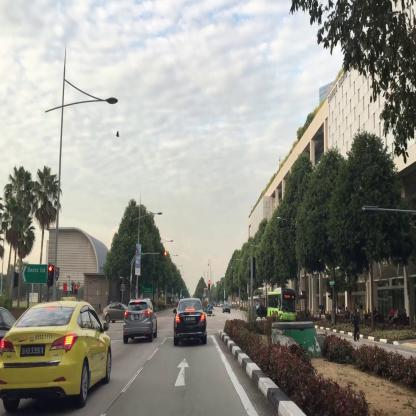red_traffic_light: (48, 264, 52, 286), (160, 252, 166, 256), (208, 280, 210, 290)
